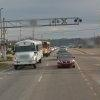Bus: (11, 38, 48, 67)
